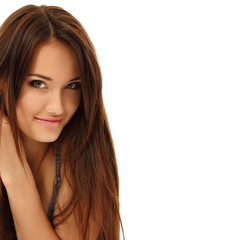teen: (3, 4, 91, 154)
